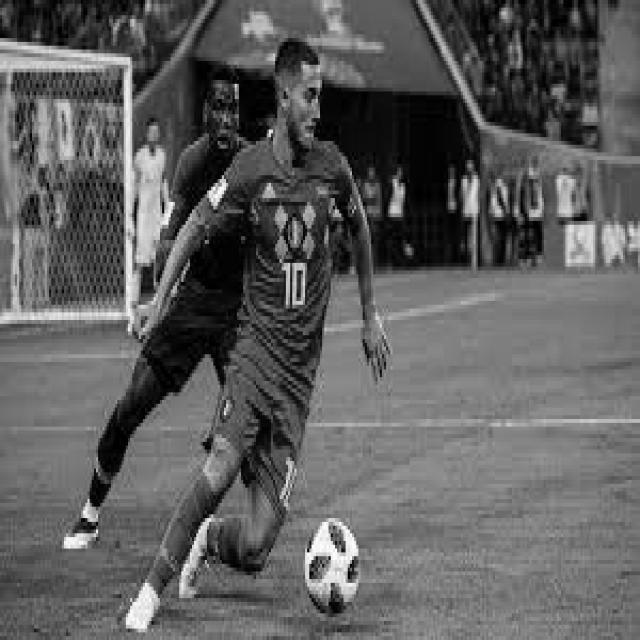football: (303, 508, 366, 617)
